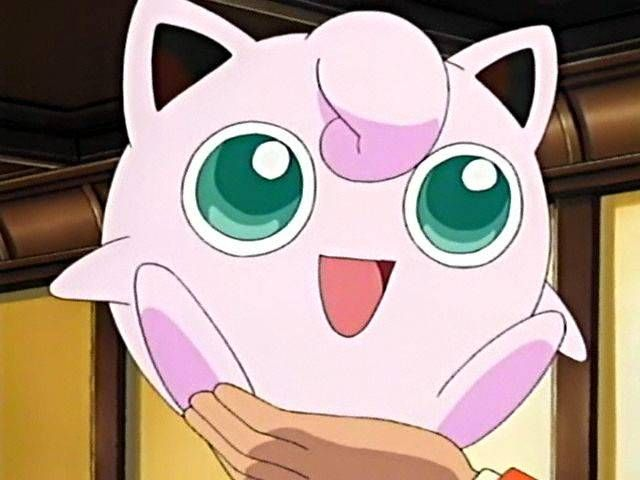jigglypuff: (53, 6, 620, 469)
